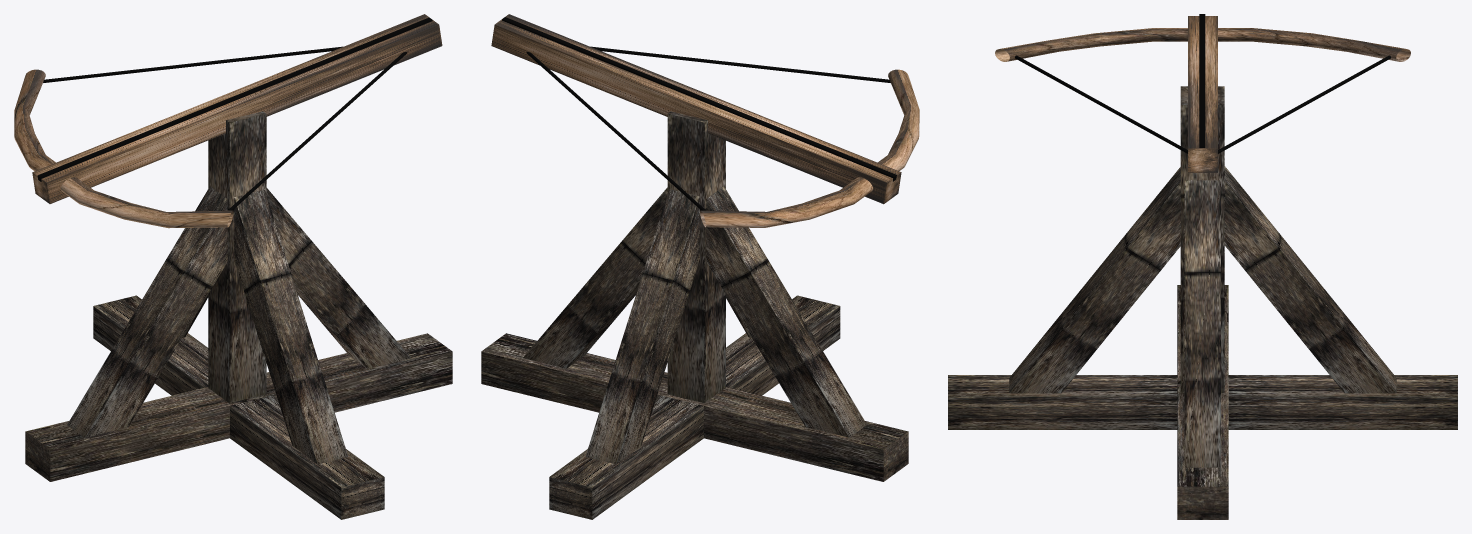
The model's file is Katapult.FBX.
3 renders of one model, left to right at view 1: azimuth 30°, elevation 25°; view 2: azimuth 150°, elevation 25°; view 3: azimuth 270°, elevation 25°, orthographic. The views are drawn at different scales.
Visible parts, largest first — view 1: Box004, Box009; view 2: Box004, Box009; view 3: Box004, Box009.
Boxes of the visible parts, x1,y1,x2,y2 form: Box004: (25, 111, 452, 519); Box009: (14, 14, 442, 228); Box004: (481, 111, 908, 519); Box009: (491, 14, 919, 227); Box004: (948, 86, 1457, 519); Box009: (995, 14, 1410, 172).
Size of the model in its own units: 63.43 by 54.06 by 67.73.
Materials: 3 (2 with a texture image).
